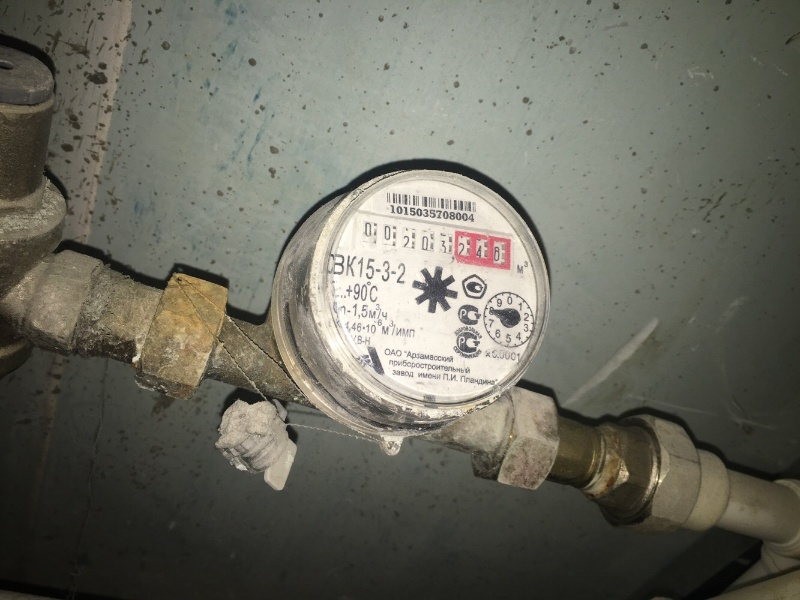meter: (346, 219, 519, 266)
